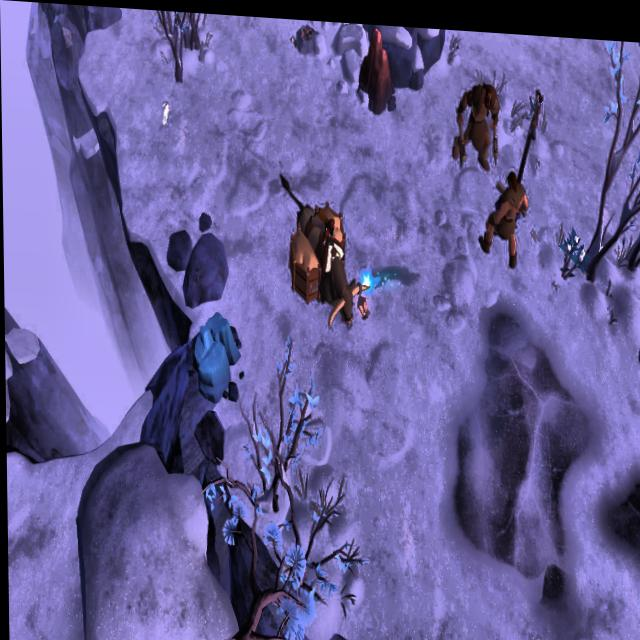enemy_factionKeeper: (478, 162, 528, 265), (454, 66, 499, 169)
fiber_t4: (559, 218, 590, 280)
rock_t4: (191, 303, 243, 401)
rock_t5: (358, 20, 394, 109)
